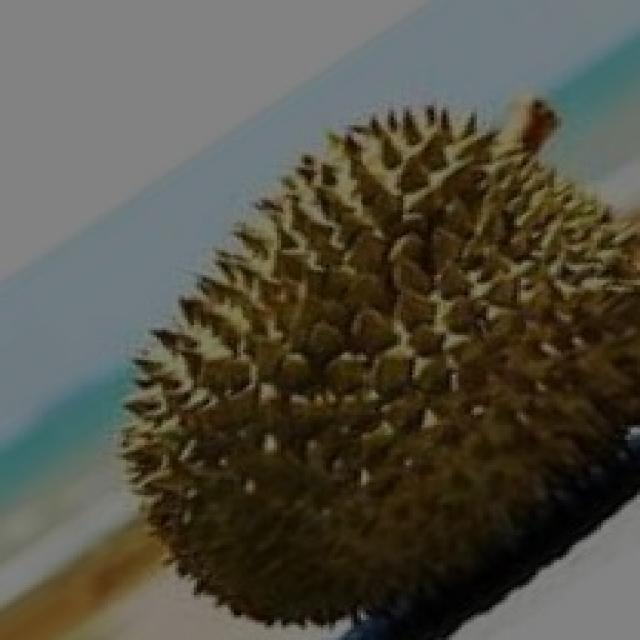fruit: (234, 80, 637, 558), (64, 272, 458, 640)
